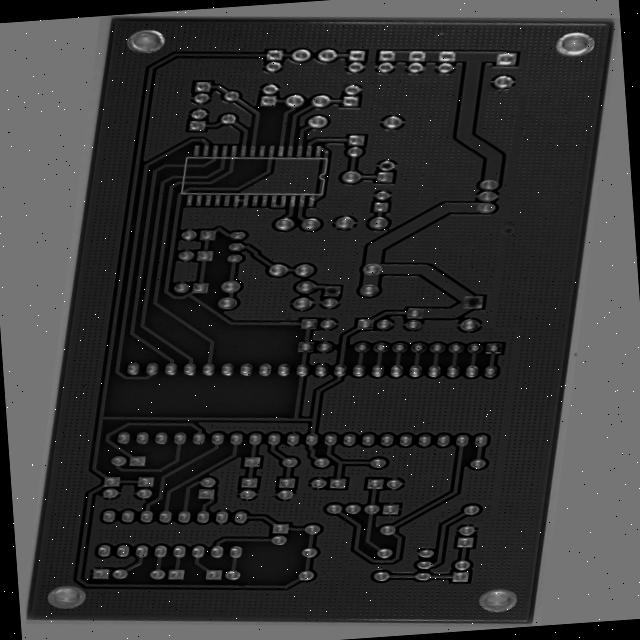missing_hole: (491, 277, 520, 296), (353, 144, 379, 160), (314, 281, 341, 295)
